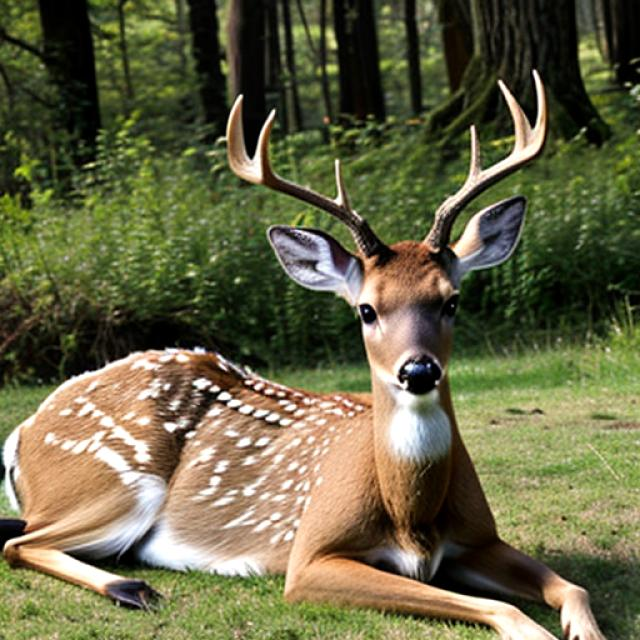deer: (188, 68, 559, 400)
